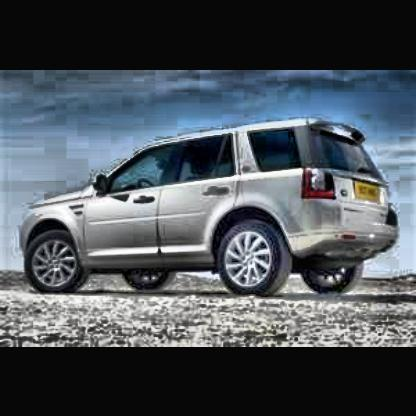Land Rover LR2 SUV 2012: (23, 122, 401, 299)
